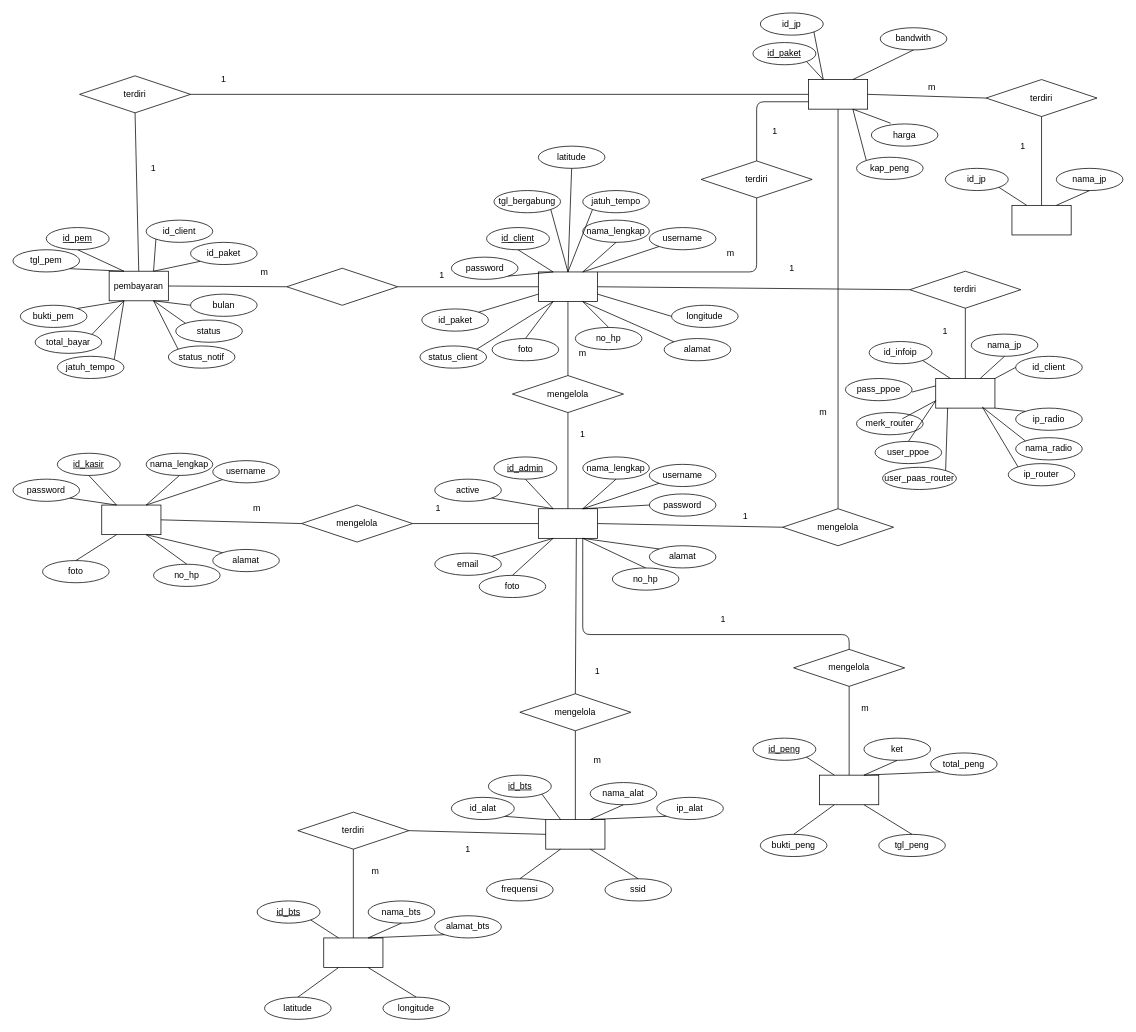
This 1136x1032 diagram has some shape labels left out. The shapes that lost their labels are listed below. From the top down, each one's centre as x and y in pixels, then its label:
[838,94]: paket
[1041,220]: jenis_paket
[342,286]: melakukan
[568,286]: client
[965,393]: info_ip_client
[131,519]: kasir
[568,523]: admin
[849,789]: pengeluaran
[575,834]: alat_dibts
[353,952]: data_bts
